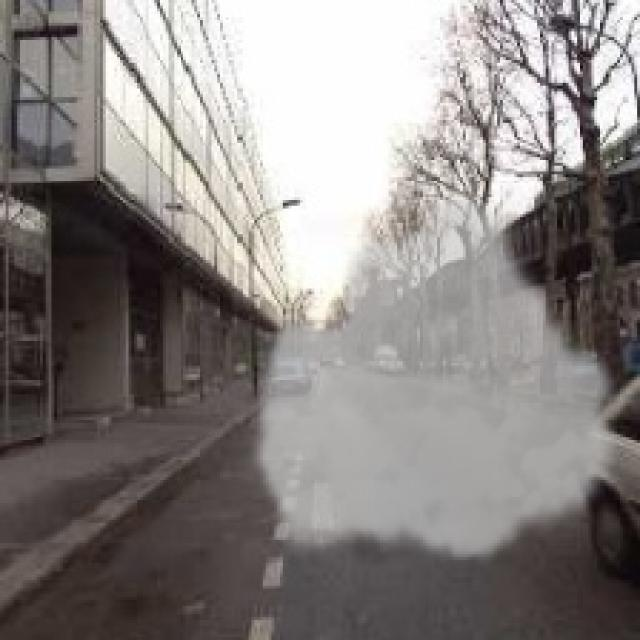Smoke: (248, 180, 628, 566)
